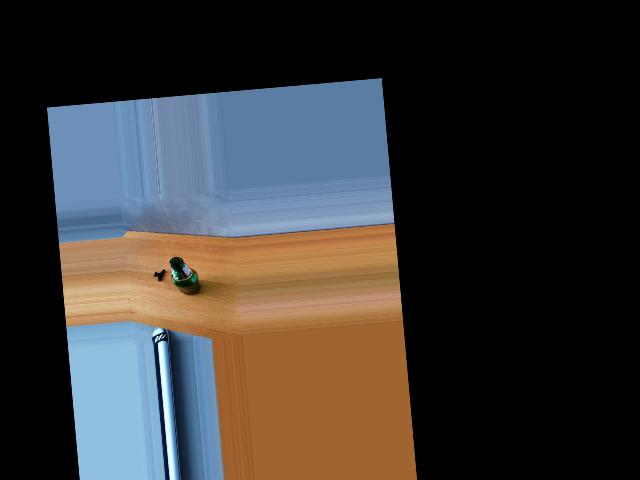beer: (168, 255, 201, 297)
